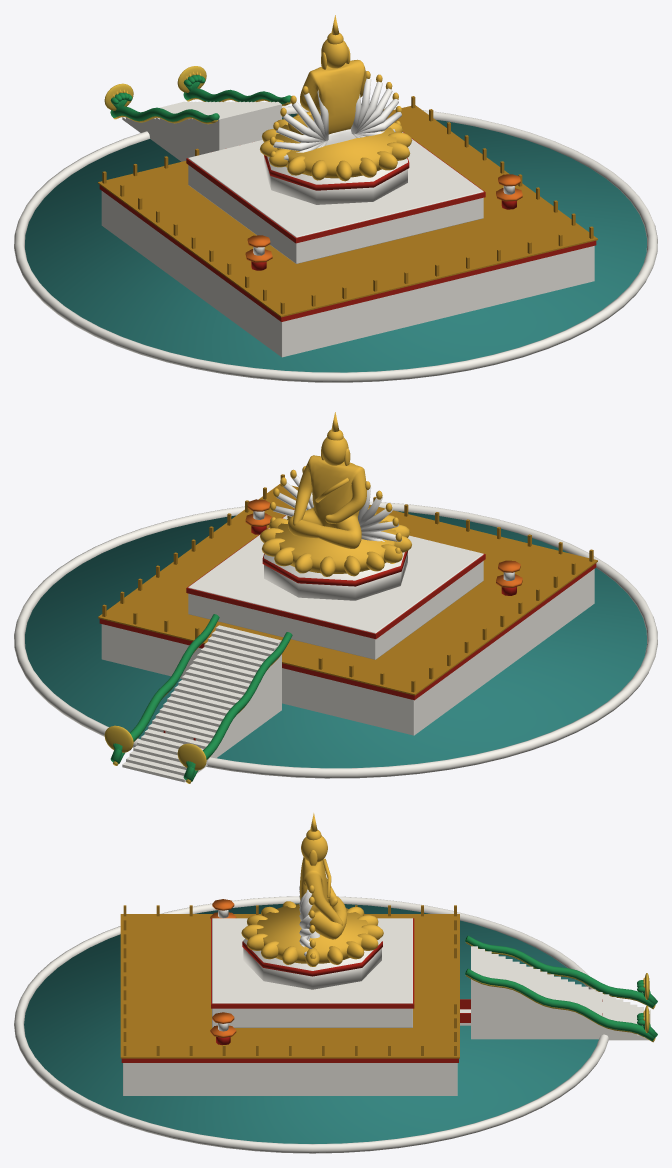
Rendered from landmarks.glb.
The picture shows the model from 3 angles, top to bottom: view 1: azimuth 30°, elevation 25°; view 2: azimuth 150°, elevation 25°; view 3: azimuth 270°, elevation 25°; orthographic projection. The views are drawn at different scales.
Visible parts, largest first — view 1: BigBuddha, Guanyin; view 2: BigBuddha, Guanyin; view 3: BigBuddha, Guanyin.
Part boxes in pixels (left/top/right/bottom): BigBuddha: left=98, top=15, right=597, bottom=357; Guanyin: left=14, top=71, right=657, bottom=382; BigBuddha: left=98, top=412, right=597, bottom=783; Guanyin: left=14, top=466, right=657, bottom=778; BigBuddha: left=120, top=813, right=657, bottom=1095; Guanyin: left=14, top=885, right=608, bottom=1153.
Size of the model in its own units: 53.5 by 22.4 by 57.69.
